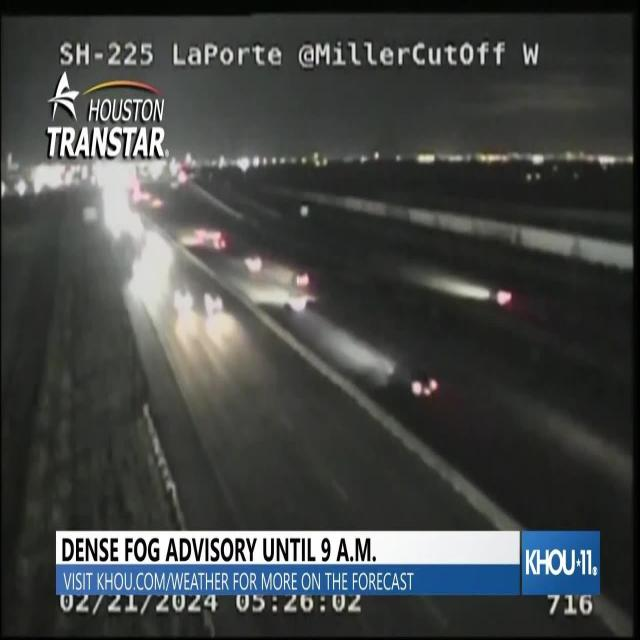Car: (382, 357, 446, 412), (173, 287, 200, 322), (202, 290, 229, 314), (488, 285, 513, 310), (291, 270, 317, 294), (243, 254, 266, 276), (210, 226, 227, 254)
